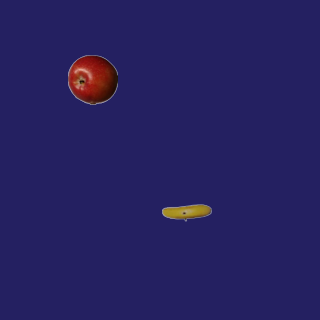Apple Braeburn: (67, 54, 117, 104)
Banana: (161, 187, 211, 237)
